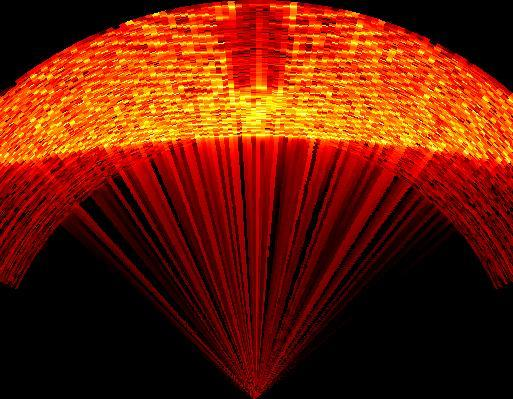box_crate: (222, 7, 305, 105)
